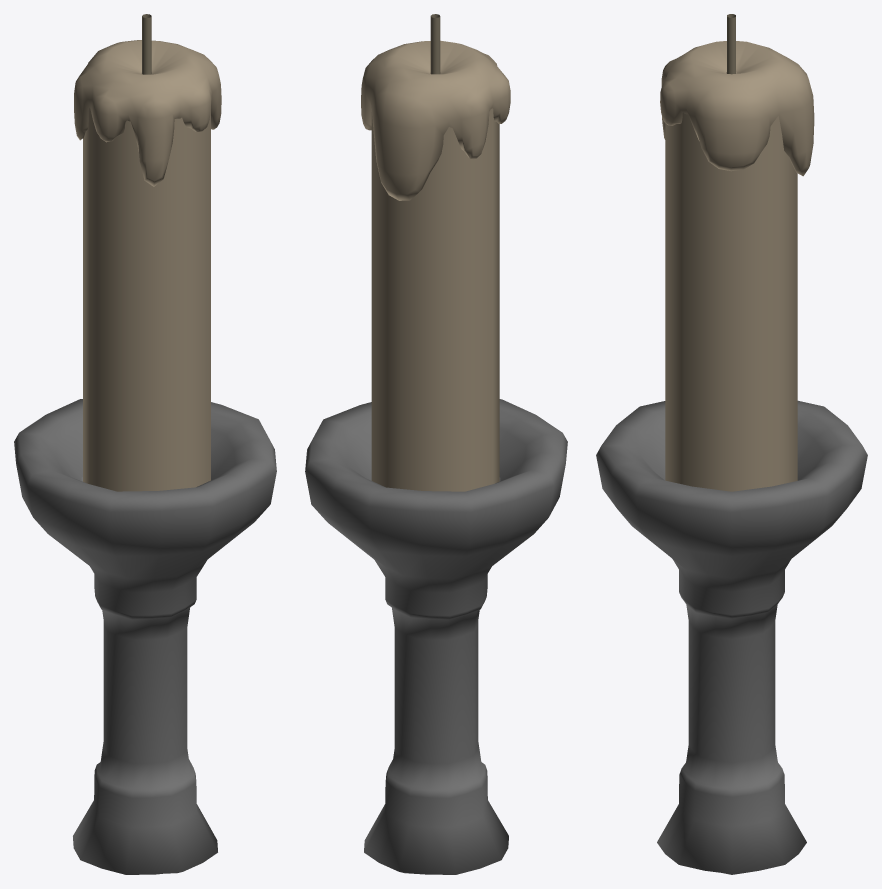
Rendered from VelaSuporte1.fbx.
The picture shows the model from 3 angles, left to right: view 1: azimuth 30°, elevation 25°; view 2: azimuth 150°, elevation 25°; view 3: azimuth 270°, elevation 25°; orthographic projection.
Parts seen in each view (by area): view 1: Vela, Suporte; view 2: Vela, Suporte; view 3: Vela, Suporte.
Boxes of the visible parts, x1,y1,x2,y2 form: Vela: [74, 14, 221, 491]; Suporte: [14, 399, 276, 874]; Vela: [361, 14, 510, 491]; Suporte: [305, 399, 567, 874]; Vela: [660, 14, 814, 491]; Suporte: [596, 400, 867, 874].
Size of the model in its own units: 14.46 by 48.87 by 14.46.
